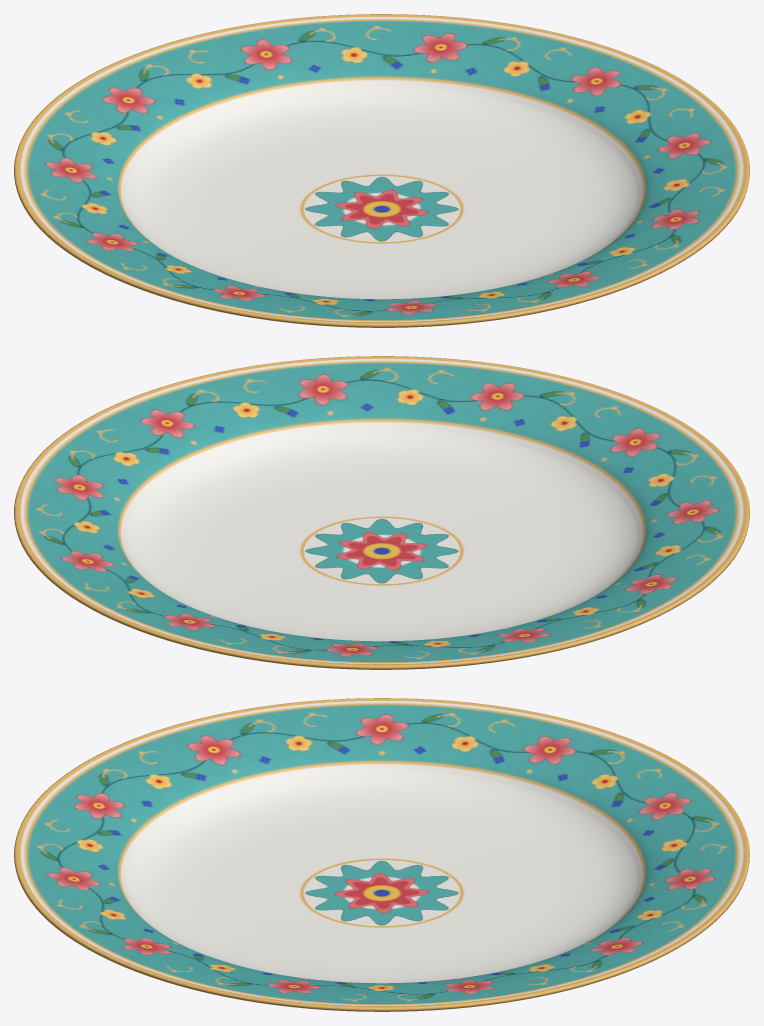
File: imperial-plate.glb
The picture shows the model from 3 angles, top to bottom: view 1: azimuth 30°, elevation 25°; view 2: azimuth 150°, elevation 25°; view 3: azimuth 270°, elevation 25°; orthographic projection.
Visible parts, largest first — view 1: imperial-plate; view 2: imperial-plate; view 3: imperial-plate.
Boxes of the visible parts, left/top/right/bottom form: imperial-plate: left=14, top=14, right=749, bottom=327; imperial-plate: left=14, top=356, right=749, bottom=669; imperial-plate: left=14, top=698, right=749, bottom=1011.
Size of the model in its own units: 0.2707 by 0.0238 by 0.2707.
Materials: 1 (1 with a texture image).
